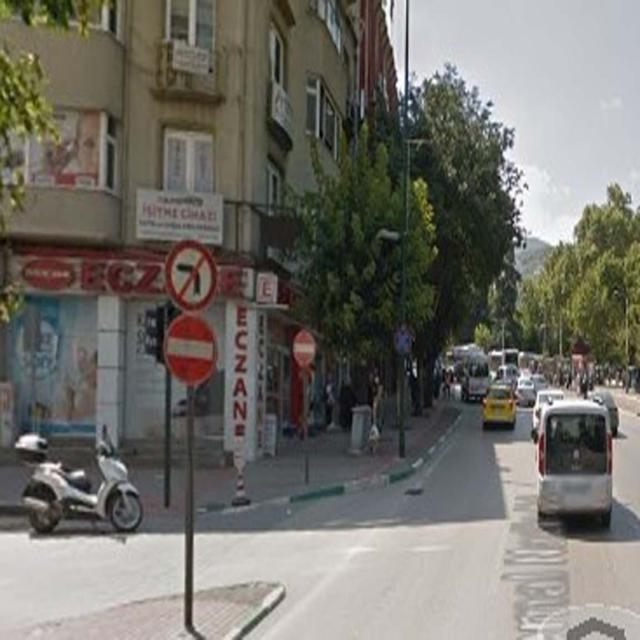girisyok: (164, 312, 216, 383), (292, 330, 316, 366)
soladonulmez: (166, 240, 217, 310)
